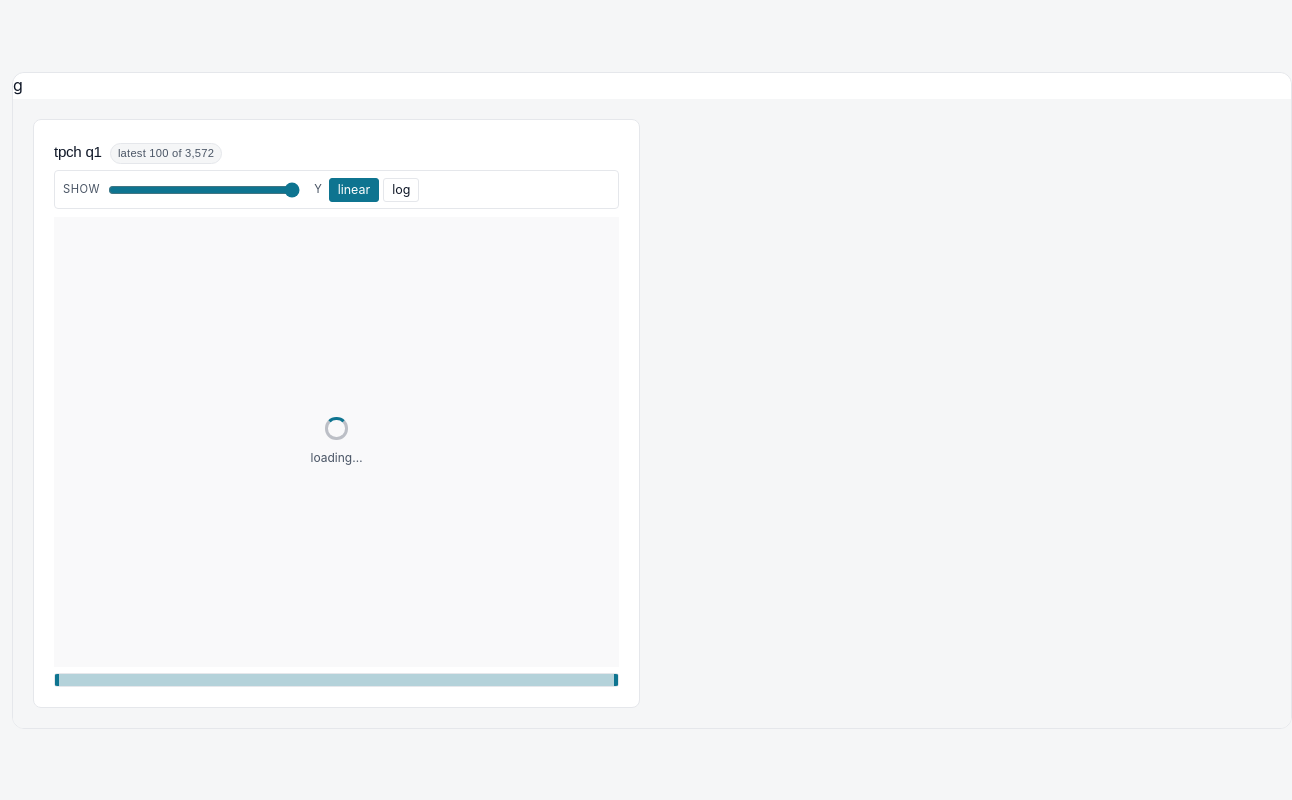
it: Chart opt-in full-history loading › a failed full fetch surfaces a retry affordance
Click the button "latest 100 of 3,572".
click(166, 153)  # box [110,143,222,164]
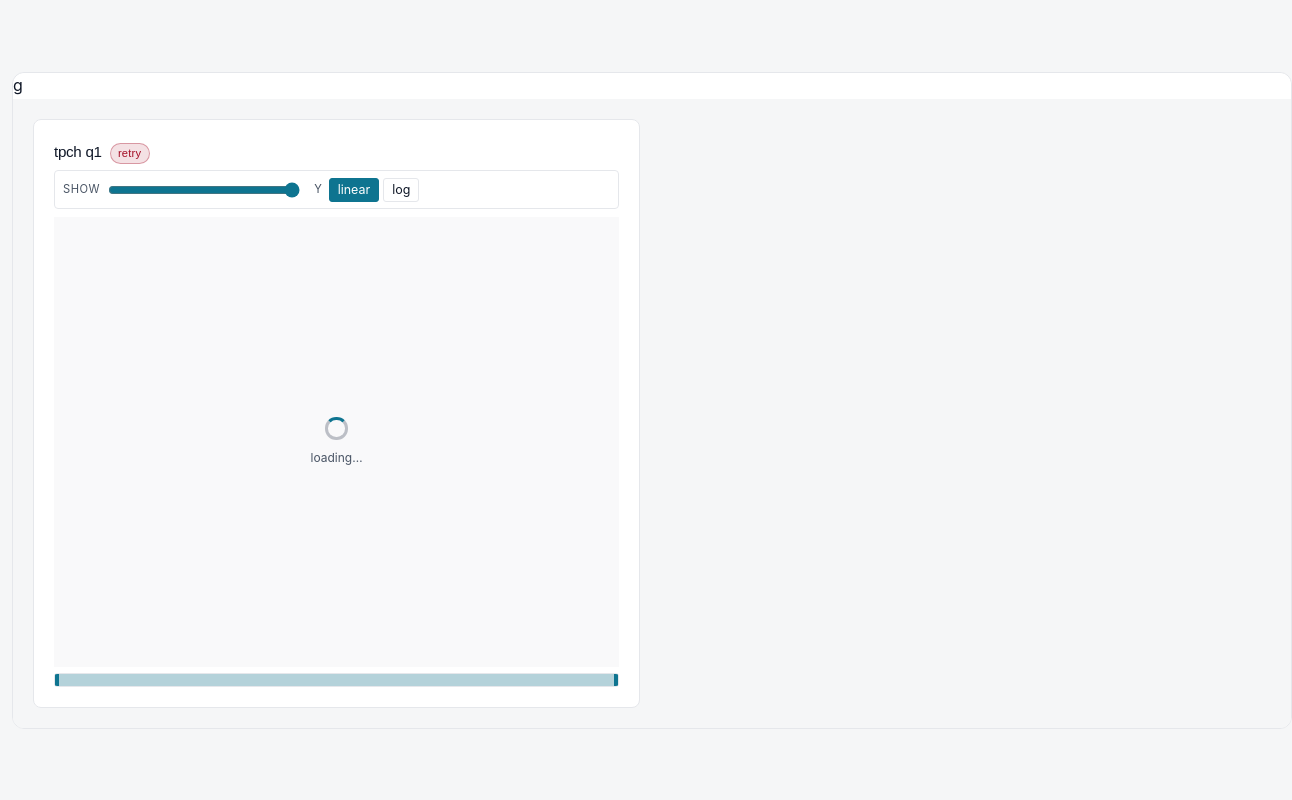
Expected: the button "retry" is enabled, [110,143,150,164]
Expected: the button "retry" is shown, [110,143,150,164]
